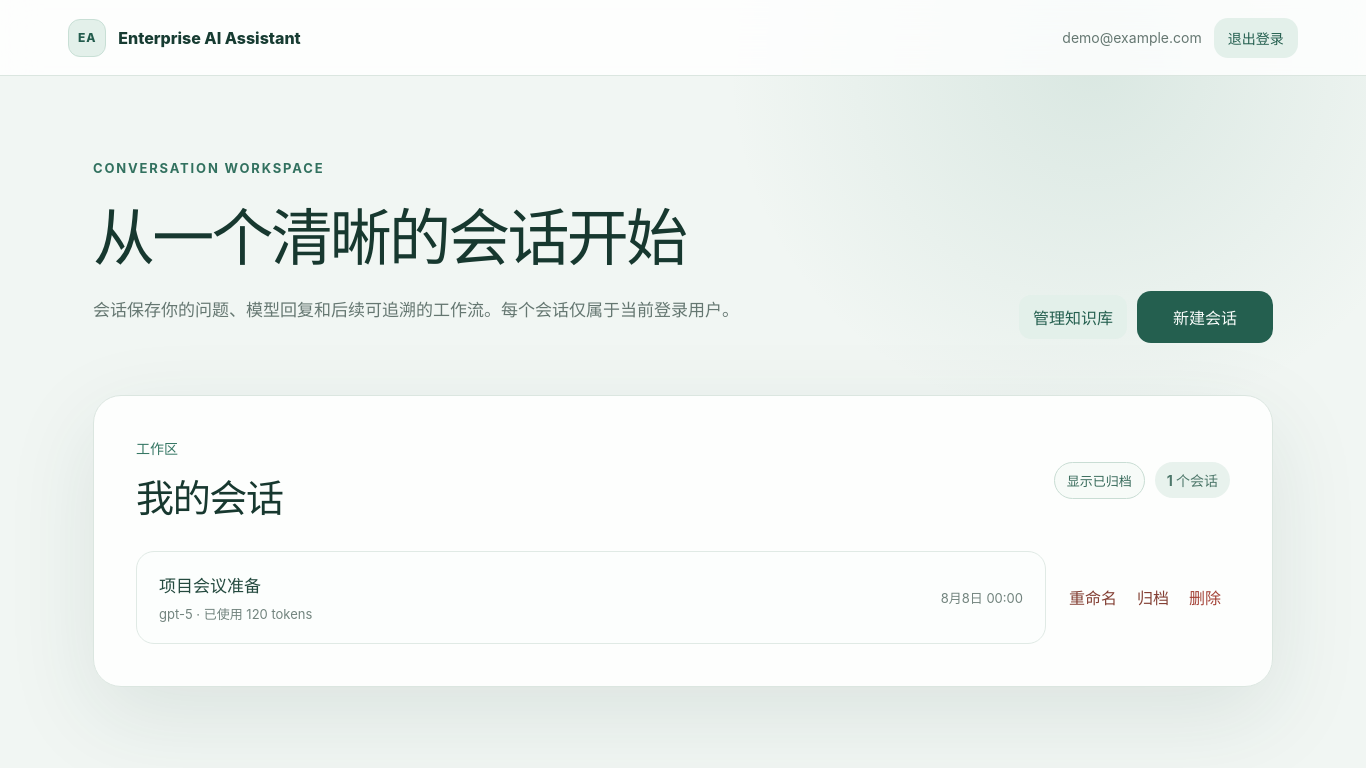
Test: HomeView › 可在重命名对话框中提交新标题，并立即看到后端确认后的结果
Click the button with test id "rename-conversation-conversation-1".
click(1093, 597)  # box x1=1060 y1=578 x2=1126 y2=616
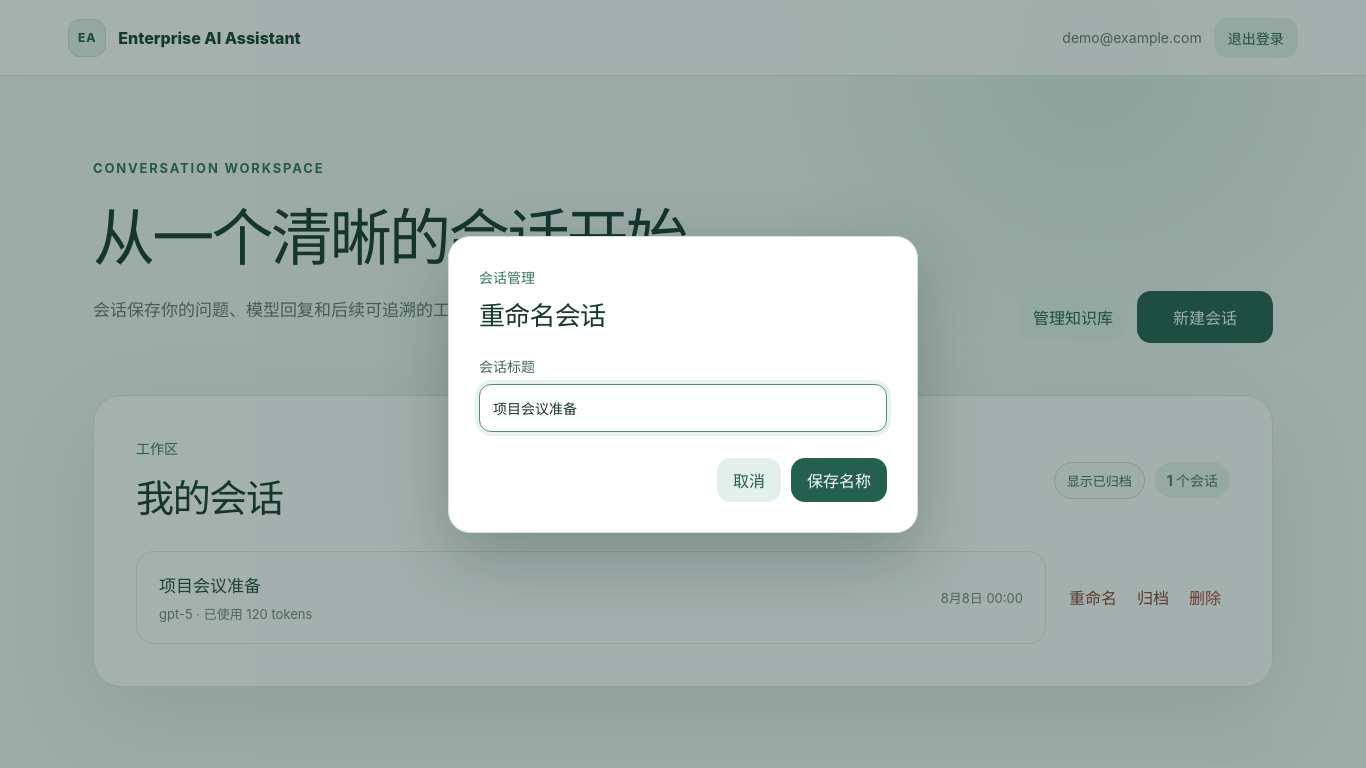
Now the element with test id "rename-dialog" shows "重命名会话", box x1=479 y1=300 x2=605 y2=330
Replace the text in the field with test id "rename-input" with " 项目会议简报 " at (683, 408), box x1=479 y1=384 x2=887 y2=432
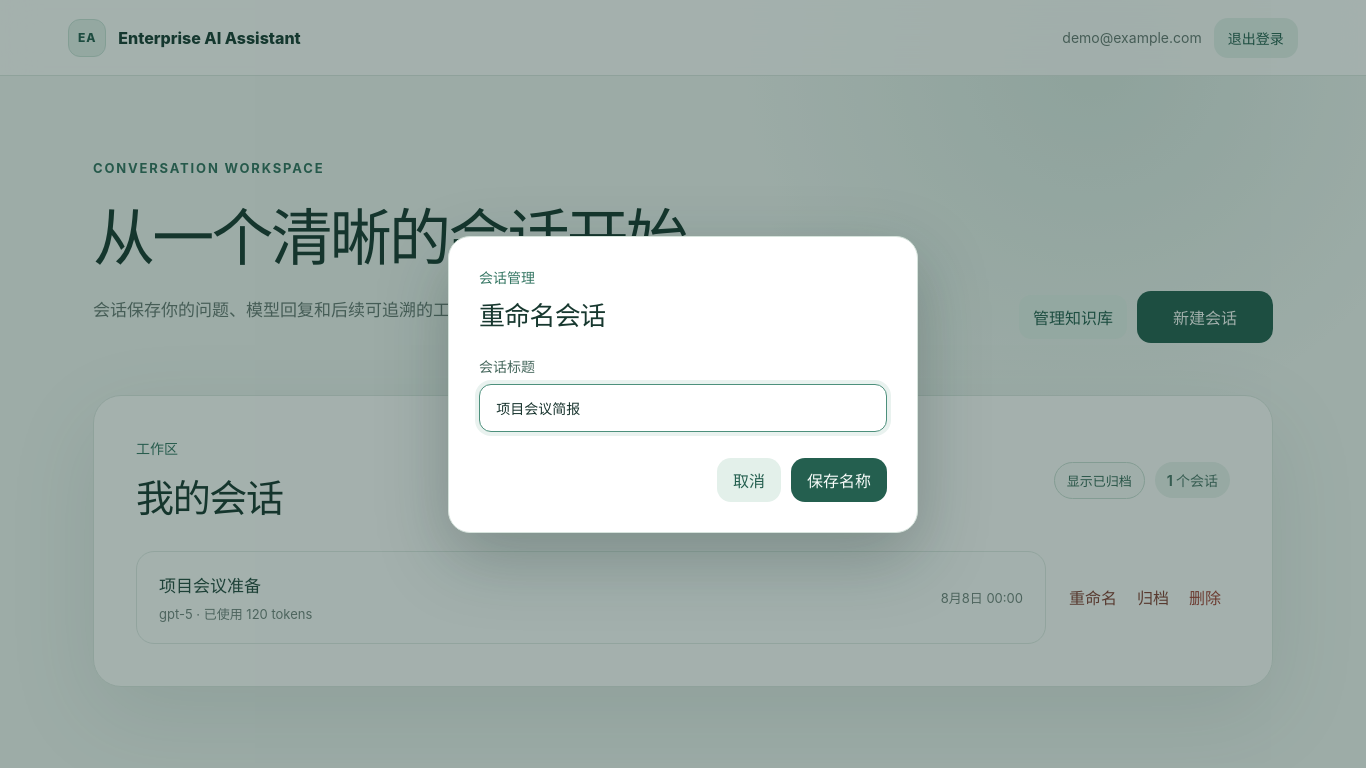
Submit the form, box x1=479 y1=266 x2=887 y2=502
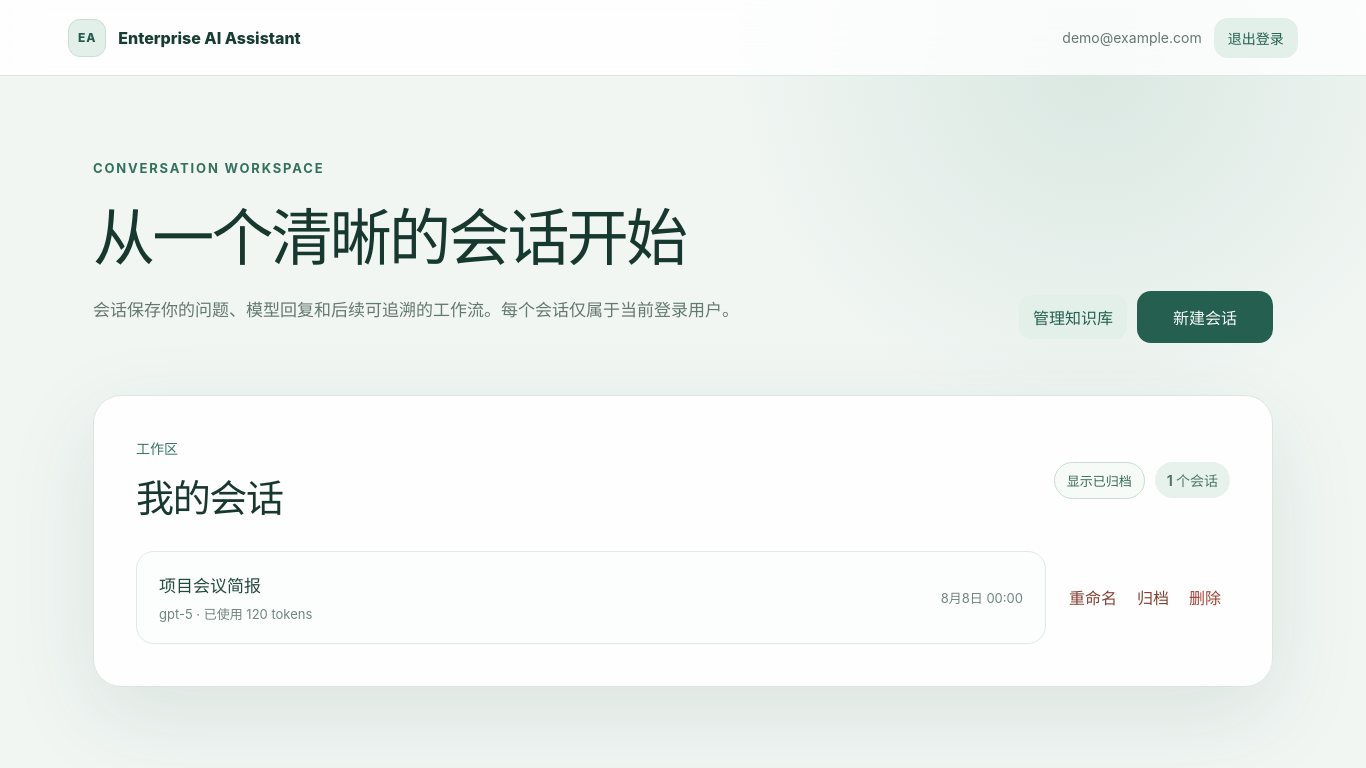
Now the text "项目会议简报" is shown, box x1=159 y1=572 x2=261 y2=597
